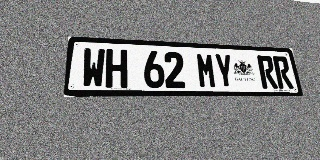2: (164, 51, 185, 88)
6: (144, 50, 165, 88)
H: (105, 49, 127, 88)
M: (196, 53, 217, 88)
R: (272, 56, 294, 89), (257, 55, 278, 89)
W: (81, 48, 105, 88)
Y: (214, 53, 235, 88)
